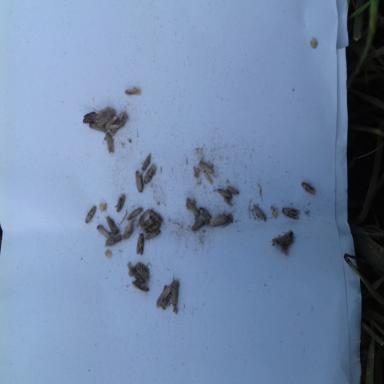pbw: (156, 282, 174, 308), (268, 229, 294, 246), (110, 111, 128, 135), (209, 210, 234, 227), (104, 214, 120, 235), (171, 273, 179, 314), (135, 259, 149, 281), (144, 161, 157, 183), (281, 206, 300, 220), (102, 132, 114, 153), (252, 204, 266, 221), (186, 200, 200, 216), (198, 207, 210, 225), (123, 218, 133, 239), (136, 218, 152, 231), (161, 290, 171, 310), (85, 205, 96, 223), (105, 235, 123, 246), (96, 224, 110, 238), (104, 115, 118, 129), (199, 160, 214, 173), (136, 232, 144, 255), (128, 207, 142, 220), (82, 111, 96, 124), (149, 209, 161, 224), (88, 122, 106, 132), (145, 229, 161, 240), (116, 193, 125, 212), (141, 153, 151, 170), (132, 281, 149, 291), (301, 182, 315, 194), (202, 170, 213, 185), (124, 88, 142, 96), (192, 218, 204, 230), (217, 188, 231, 198), (138, 208, 148, 222), (136, 170, 142, 192), (226, 186, 240, 194), (128, 265, 136, 277)
